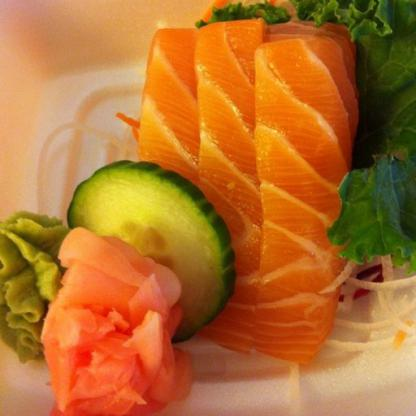salmon: (138, 33, 339, 356)
